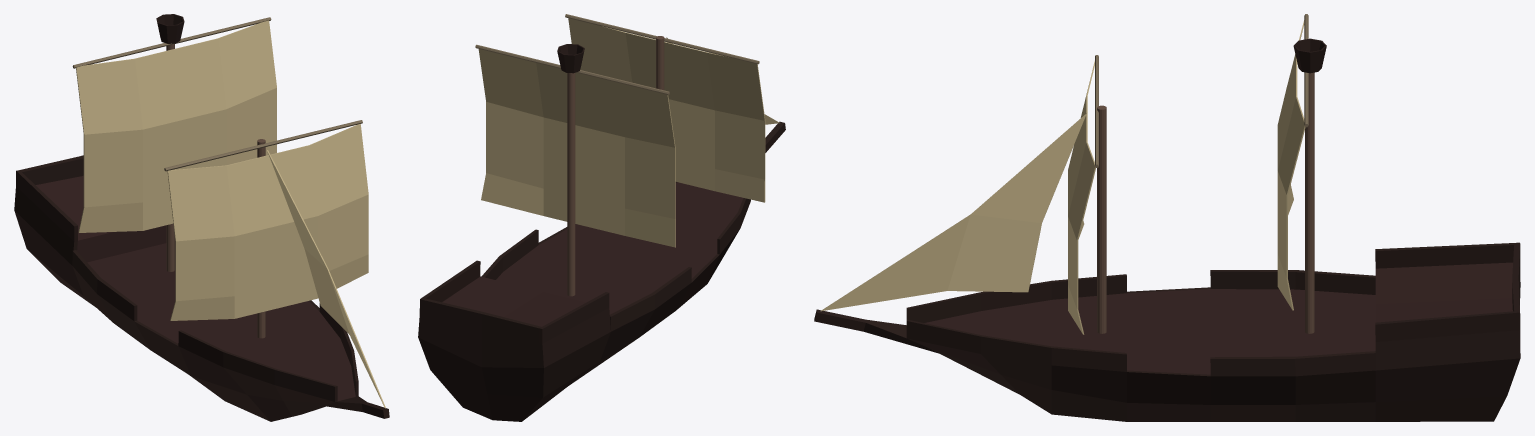
File: ship1.fbx
The picture shows the model from 3 angles, left to right: view 1: azimuth 30°, elevation 25°; view 2: azimuth 150°, elevation 25°; view 3: azimuth 270°, elevation 25°; orthographic projection. The views are drawn at different scales.
Parts seen in each view (by area): view 1: Cube; view 2: Cube; view 3: Cube.
Boxes of the visible parts, bbox=[...] form: Cube: bbox=[14, 14, 389, 421]; Cube: bbox=[418, 14, 785, 421]; Cube: bbox=[814, 14, 1520, 421].
Bounding box in the file's own units: 626 × 965 × 1689.
